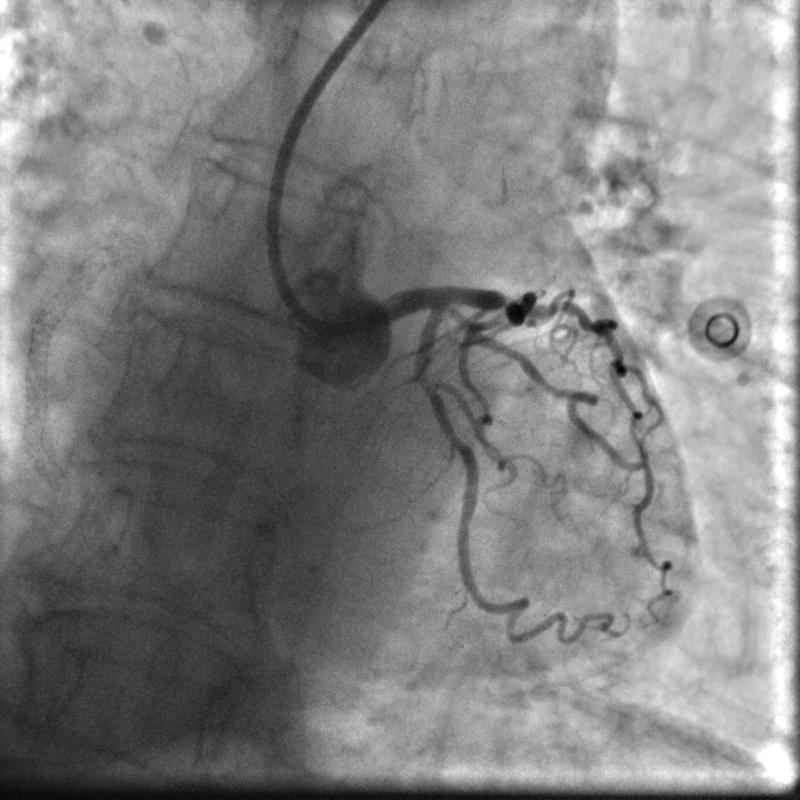Stenosis: (411, 367, 441, 394)
